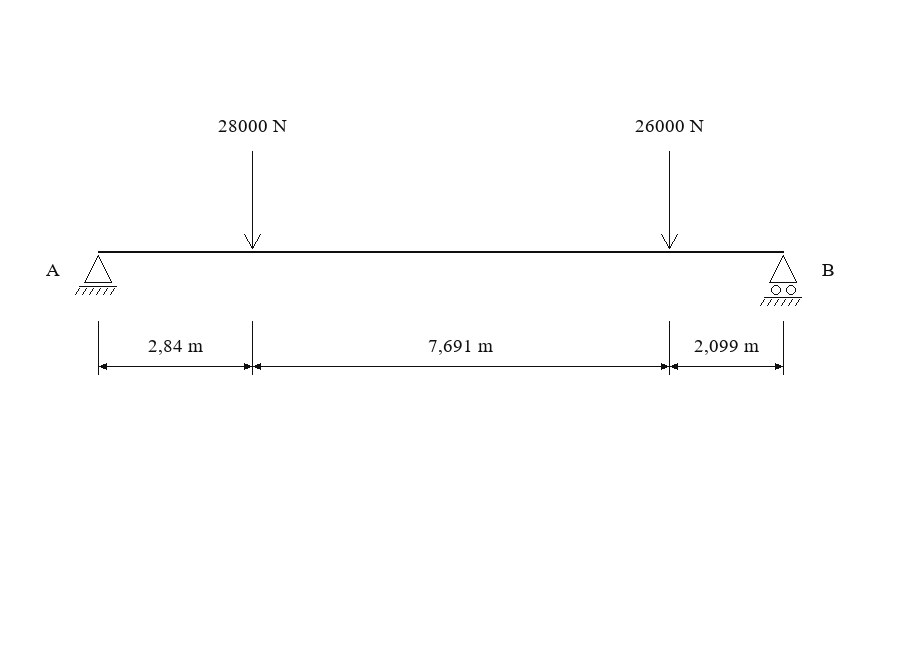pin_support: (75, 255, 117, 295)
point_load: (244, 151, 261, 249), (661, 151, 678, 249)
roller_support: (760, 255, 802, 306)
